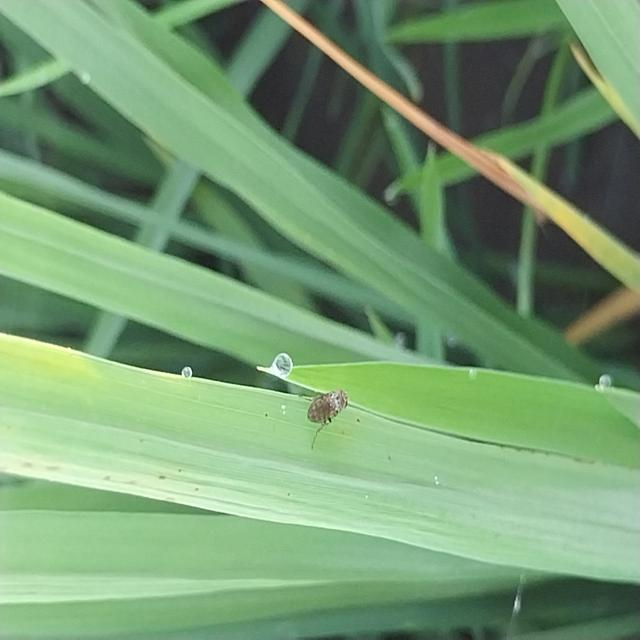healthy: (279, 378, 375, 449)
